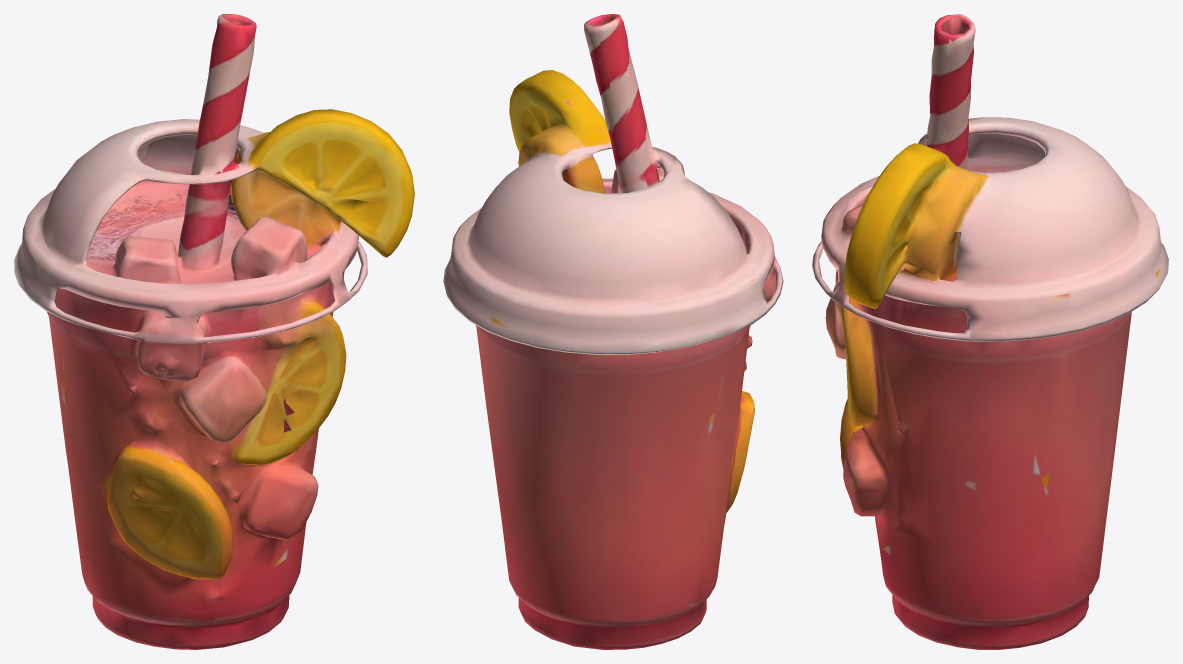
3 renders of one model, left to right at view 1: azimuth 30°, elevation 25°; view 2: azimuth 150°, elevation 25°; view 3: azimuth 270°, elevation 25°, orthographic. The views are drawn at different scales.
Parts seen in each view (by area): view 1: lemonade; view 2: lemonade; view 3: lemonade.
Boxes of the visible parts, box(x1,y1,x2,y2) form: lemonade: box(14, 14, 414, 649); lemonade: box(443, 14, 783, 649); lemonade: box(812, 14, 1168, 649).
Size of the model in its own units: 0.0988 by 0.18 by 0.0962.
1 material, 1 textured.
